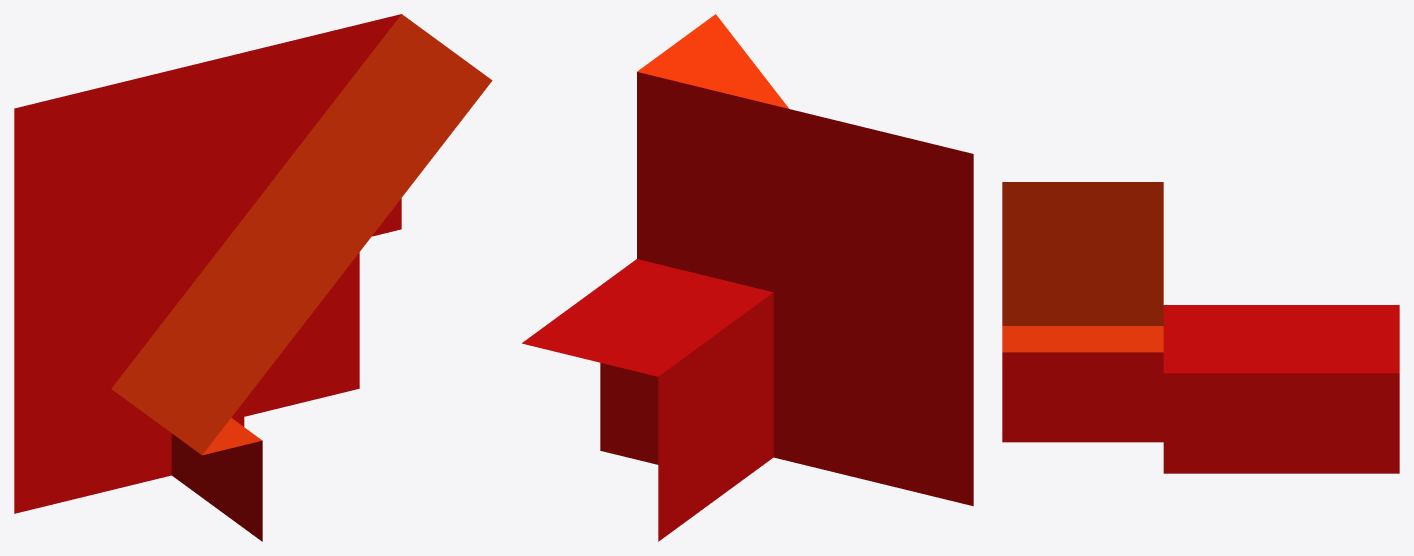
The picture shows the model from 3 angles, left to right: view 1: azimuth 30°, elevation 25°; view 2: azimuth 150°, elevation 25°; view 3: azimuth 270°, elevation 25°; orthographic projection. The views are drawn at different scales.
Visible parts, largest first — view 1: None_E_S_A_E_A_E_A_E_None; view 2: None_E_S_A_E_A_E_A_E_None; view 3: None_E_S_A_E_A_E_A_E_None.
Part boxes in pixels (box(x1,y1,x2,y2)): None_E_S_A_E_A_E_A_E_None: box(14, 14, 492, 541); None_E_S_A_E_A_E_A_E_None: box(522, 14, 973, 541); None_E_S_A_E_A_E_A_E_None: box(1002, 182, 1399, 473).
Size of the model in its own units: 100 by 100 by 100.
